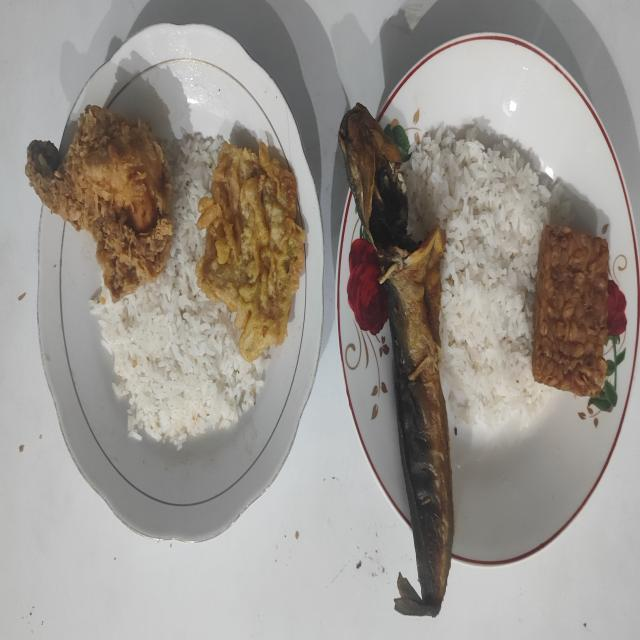nasi_putih: (90, 135, 270, 450), (403, 125, 571, 428)
tempe_goreng: (532, 224, 609, 396)
